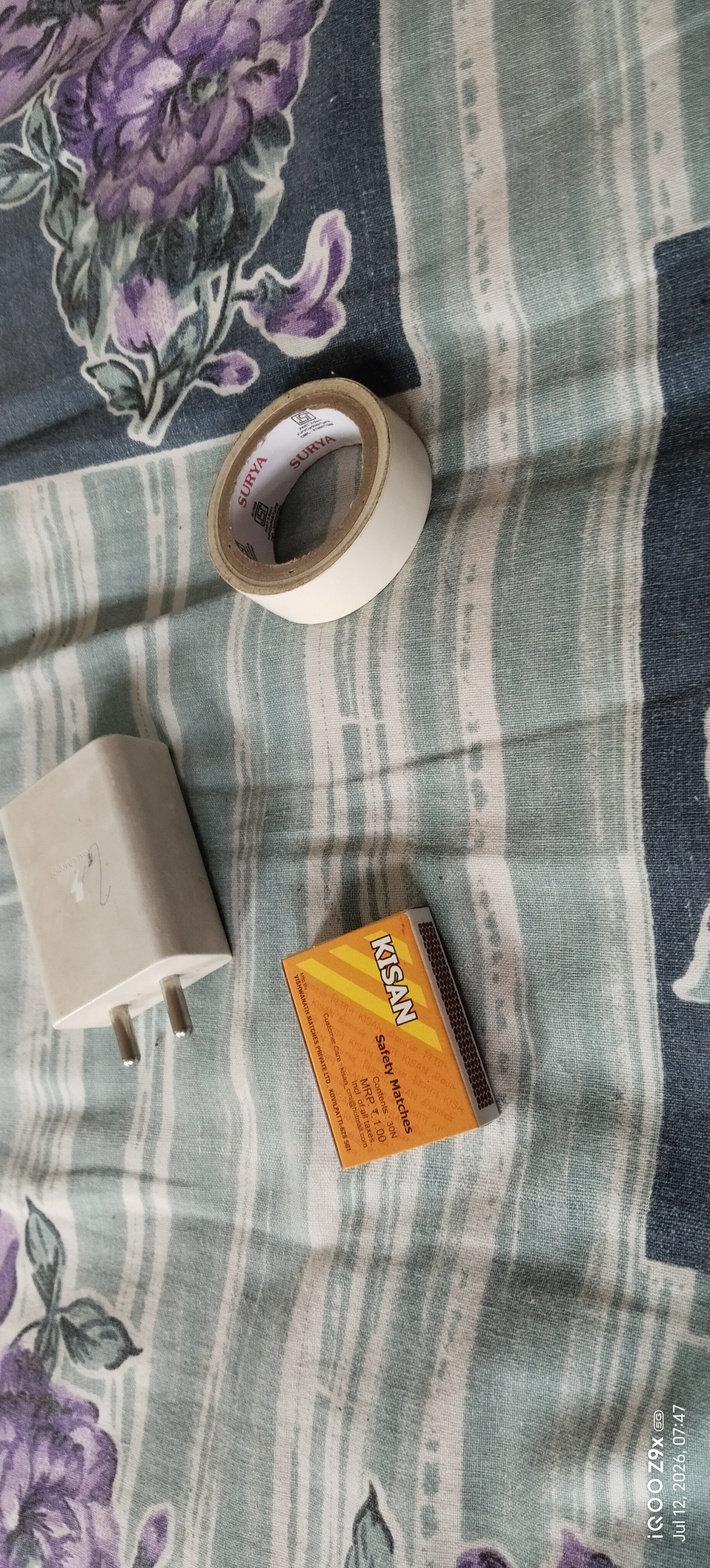charger: (0, 708, 259, 1082)
matchbox: (270, 882, 513, 1175)
tape_roll: (182, 369, 465, 638)
